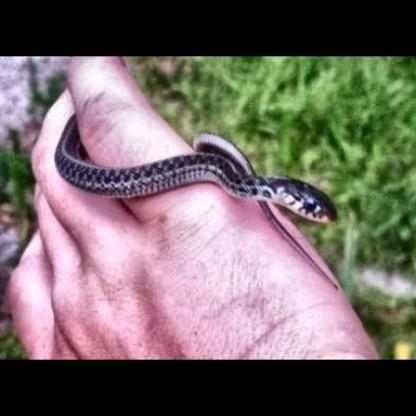Snake: (51, 110, 340, 228)
